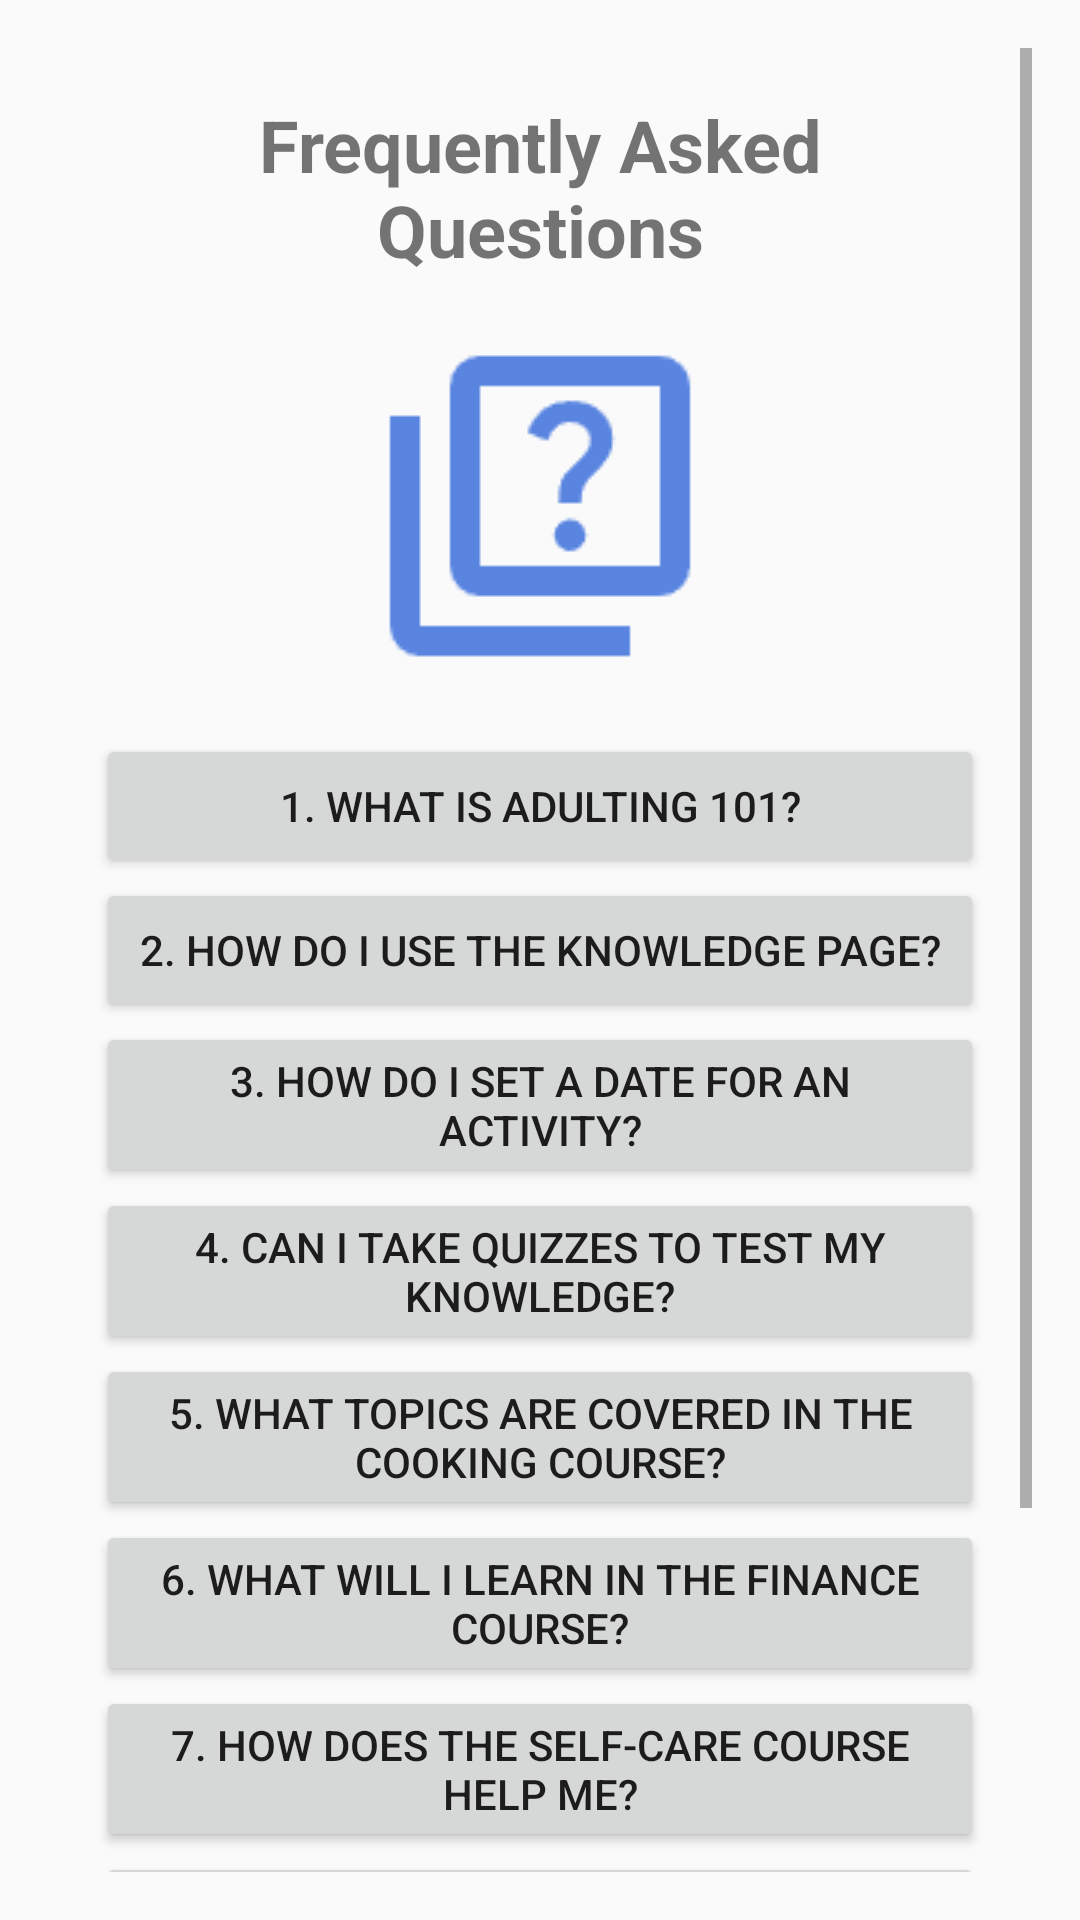

Where to tap for icons on this 1080px x 1920px app screen, as (x=x, y=y):
faq: (x=540, y=506)
